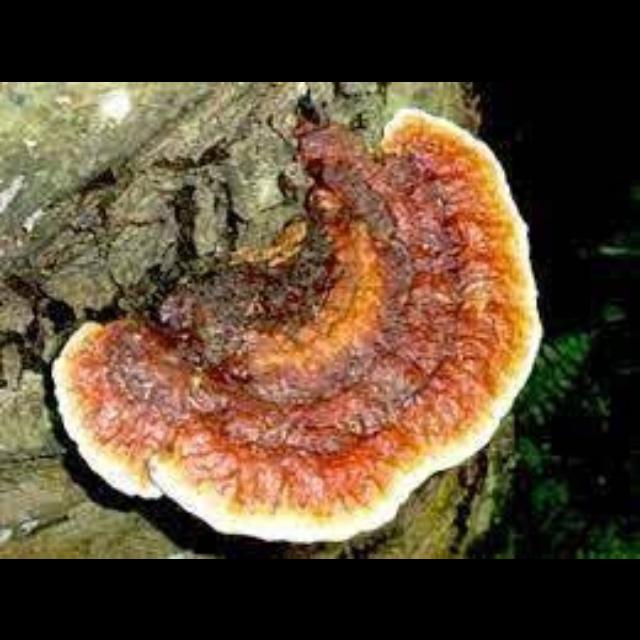ganoderma: (51, 106, 548, 546)
